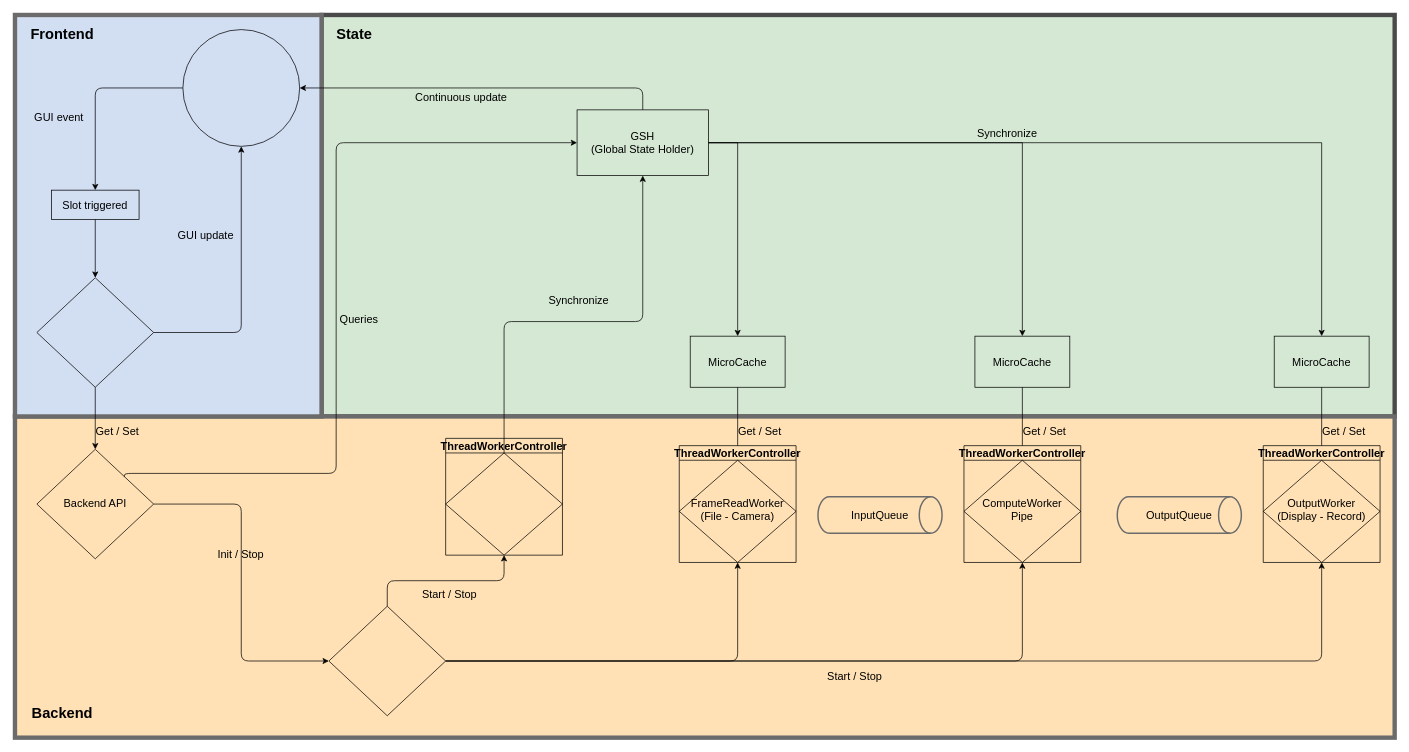
The diagram is 1409 pixels wide and 752 high, and some of its shapes have lost their labels. Each missing label, with the centre of its shape:
GUI: the point at 241,87
Holovibes: the point at 387,661
InformationWorker: the point at 503,503
Slot processing: the point at 95,332
